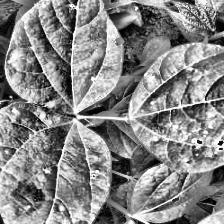Bean Rust: (0, 100, 110, 224), (4, 0, 122, 110), (127, 46, 224, 170)
